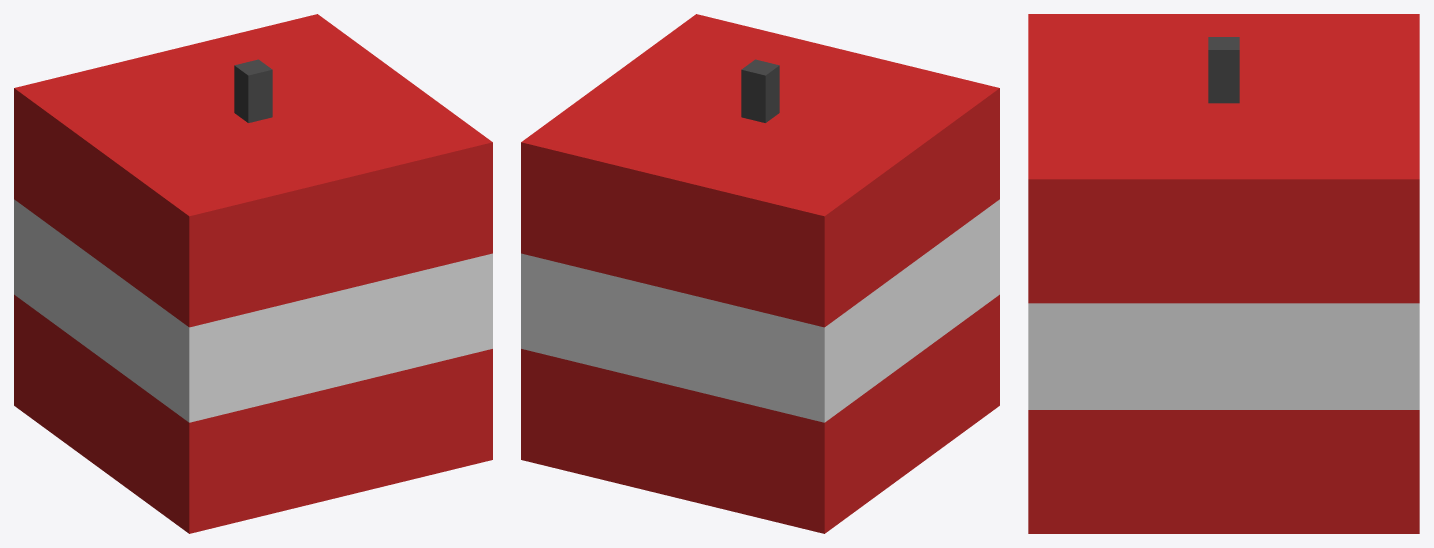
The model's file is tnt_block.obj.
The picture shows the model from 3 angles, left to right: view 1: azimuth 30°, elevation 25°; view 2: azimuth 150°, elevation 25°; view 3: azimuth 270°, elevation 25°; orthographic projection. The views are drawn at different scales.
Bounding box in the file's own units: 1 × 1.15 × 1.
